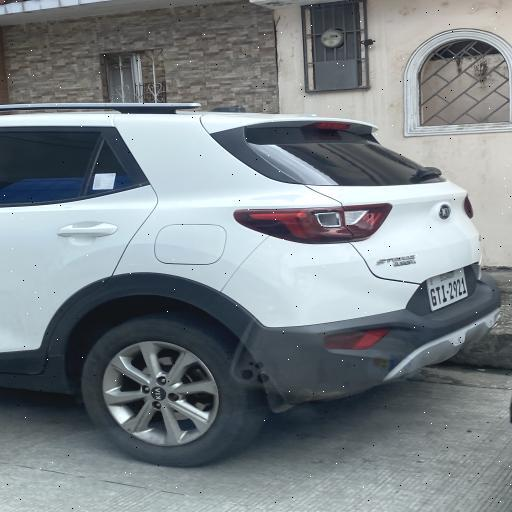license_plate: (429, 286, 437, 308), (441, 285, 447, 303), (448, 282, 454, 300), (452, 280, 458, 298), (456, 278, 462, 296), (436, 287, 441, 303), (462, 278, 467, 294)
